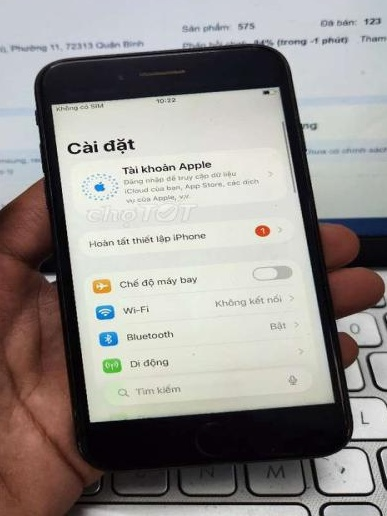scratch: (68, 47, 250, 61)
